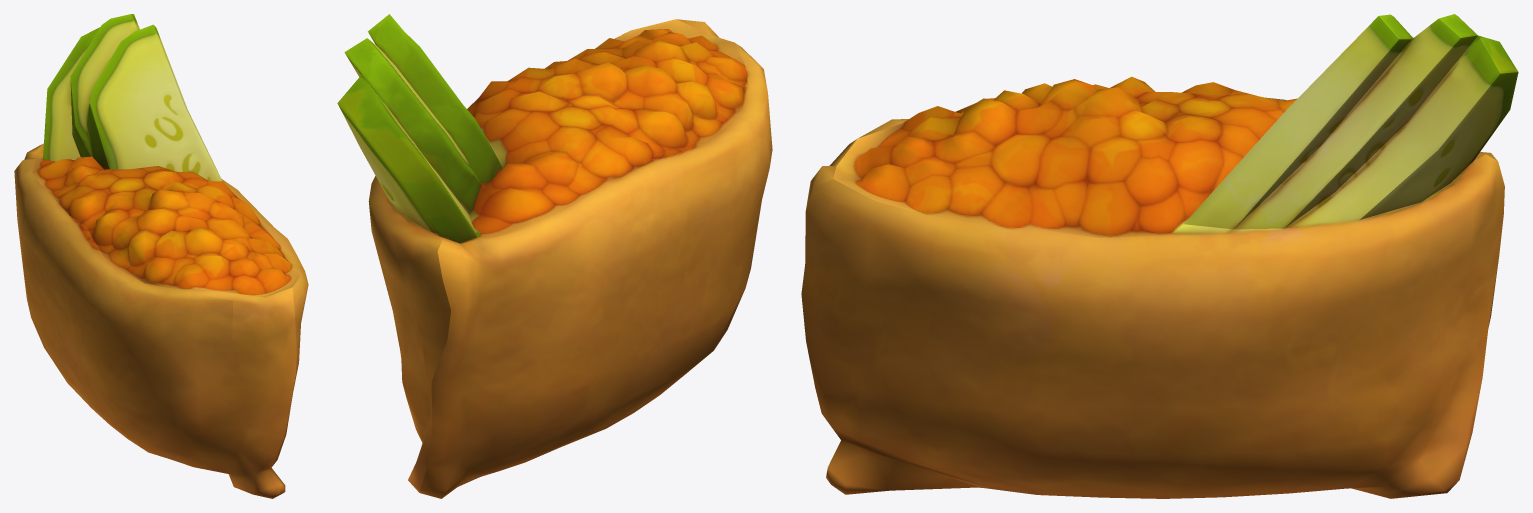
File: Sushi2.fbx
3 views of the same model, side by side, from view 1: azimuth 30°, elevation 25°; view 2: azimuth 150°, elevation 25°; view 3: azimuth 270°, elevation 25° (orthographic). The views are drawn at different scales.
Parts seen in each view (by area): view 1: Sushi; view 2: Sushi; view 3: Sushi.
Boxes of the visible parts, x1=… form: Sushi: x1=14, y1=14, x2=308, y2=498; Sushi: x1=337, y1=14, x2=772, y2=498; Sushi: x1=801, y1=14, x2=1518, y2=498.
Size of the model in its own units: 7.75 by 12.04 by 15.15.
Materials: 1 (1 with a texture image).
